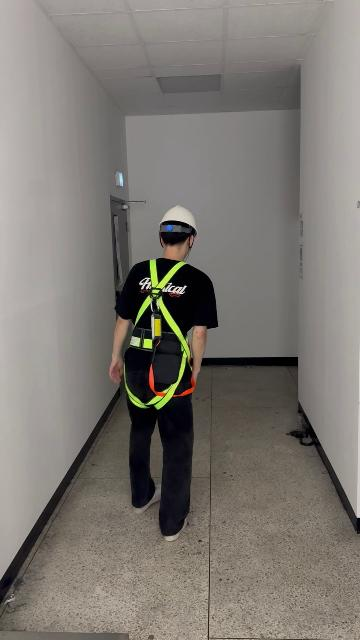helmet_not_worn: (132, 484, 159, 514), (162, 517, 186, 540)
helmet_worn: (159, 204, 198, 233)
vest_worn: (123, 263, 195, 404)
